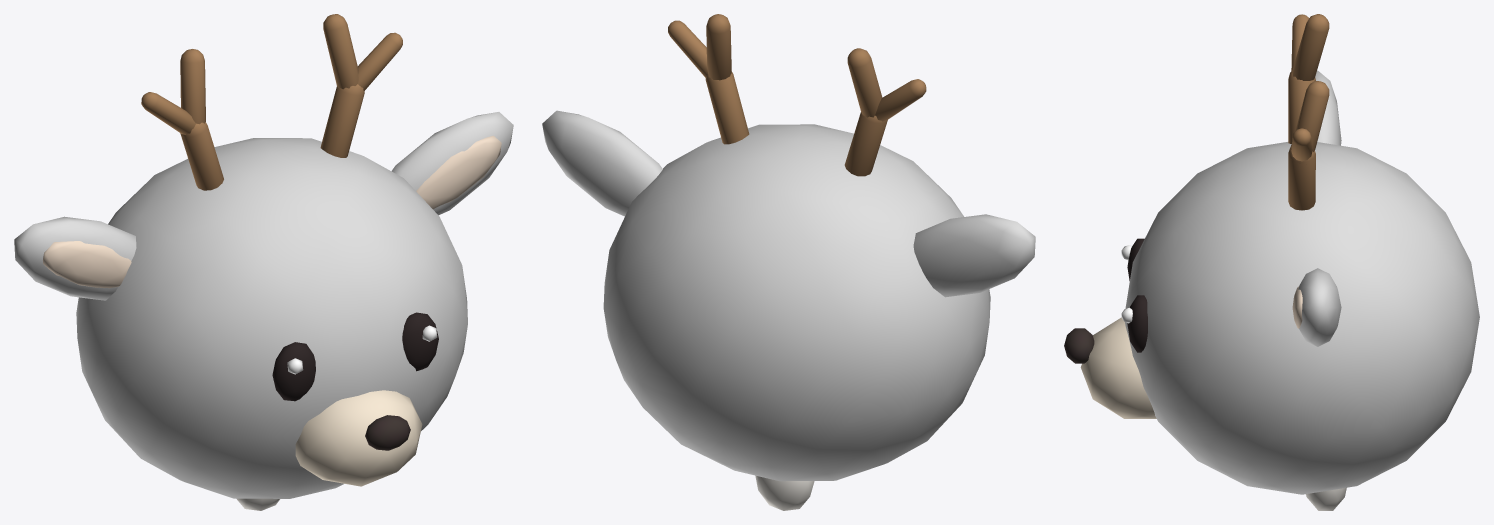
The model's file is animal.deer.glb.
The picture shows the model from 3 angles, left to right: view 1: azimuth 30°, elevation 25°; view 2: azimuth 150°, elevation 25°; view 3: azimuth 270°, elevation 25°; orthographic projection. The views are drawn at different scales.
Visible parts, largest first — view 1: head, antlers; view 2: head, antlers, tail; view 3: head, antlers, tail.
Part boxes in pixels (left/top/right/bottom): head: left=14, top=112, right=513, bottom=498; antlers: left=141, top=14, right=402, bottom=190; head: left=542, top=110, right=1035, bottom=481; antlers: left=668, top=14, right=926, bottom=176; tail: left=755, top=475, right=814, bottom=510; head: left=1064, top=70, right=1479, bottom=494; antlers: left=1288, top=14, right=1329, bottom=210; tail: left=1306, top=487, right=1346, bottom=510.
Bounding box in the file's own units: 0.6945 × 0.6445 × 0.526.
